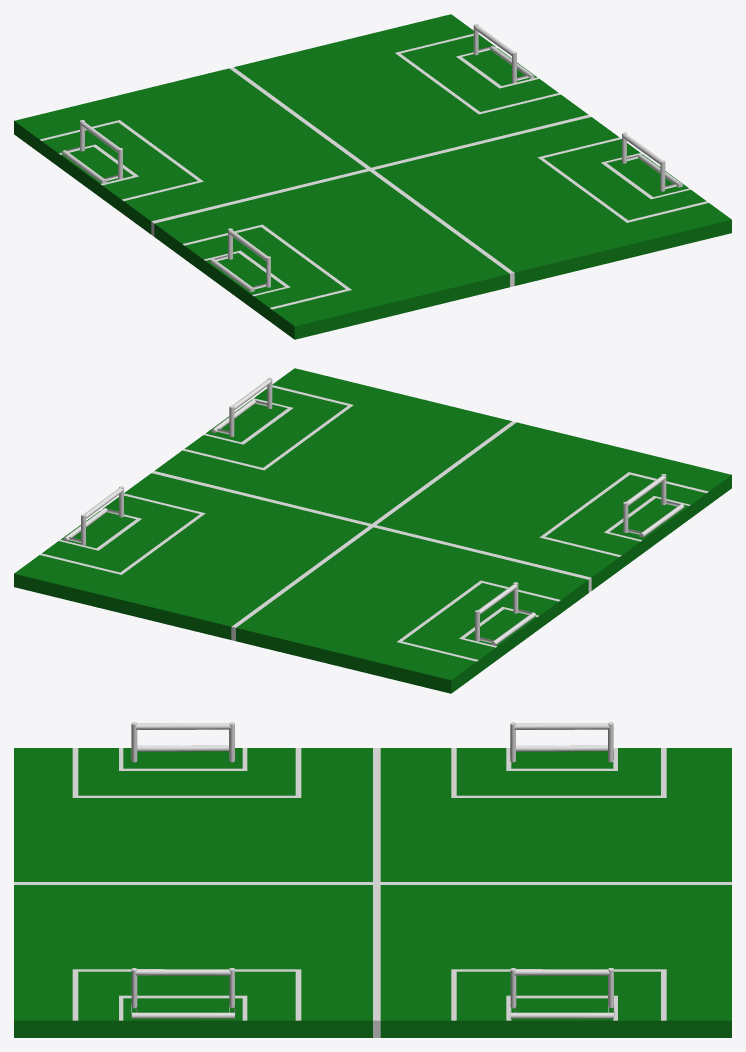
File: FootballField.glb
The picture shows the model from 3 angles, top to bottom: view 1: azimuth 30°, elevation 25°; view 2: azimuth 150°, elevation 25°; view 3: azimuth 270°, elevation 25°; orthographic projection. The views are drawn at different scales.
Visible parts, largest first — view 1: Cylinder.010; view 2: Cylinder.010; view 3: Cylinder.010.
Part boxes in pixels (x1,y1,x2,y2): Cylinder.010: [14, 14, 731, 339]; Cylinder.010: [14, 368, 731, 693]; Cylinder.010: [14, 722, 731, 1037].
Bounding box in the file's own units: 133 × 12.44 × 148.
